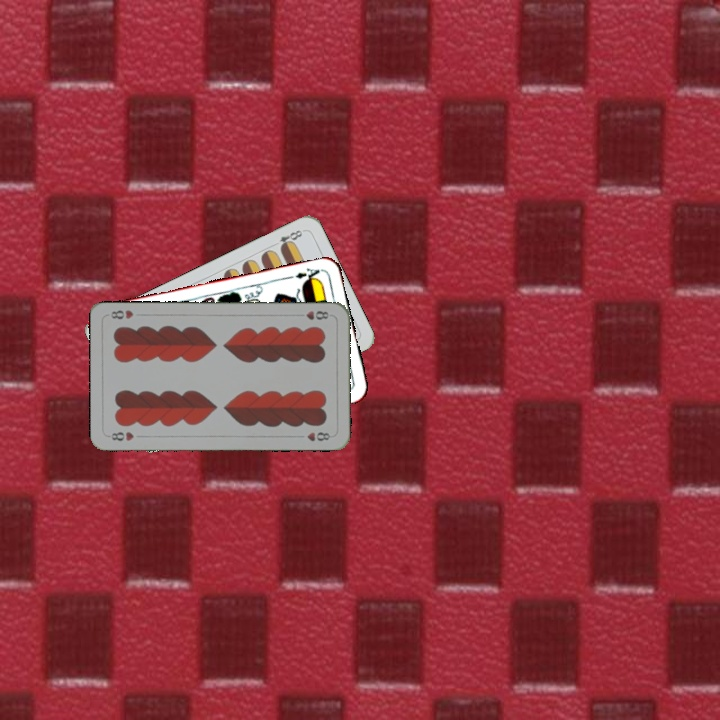E8: (268, 226, 307, 252)
EA: (291, 264, 326, 285)
H8: (293, 307, 331, 322), (105, 428, 136, 443)
